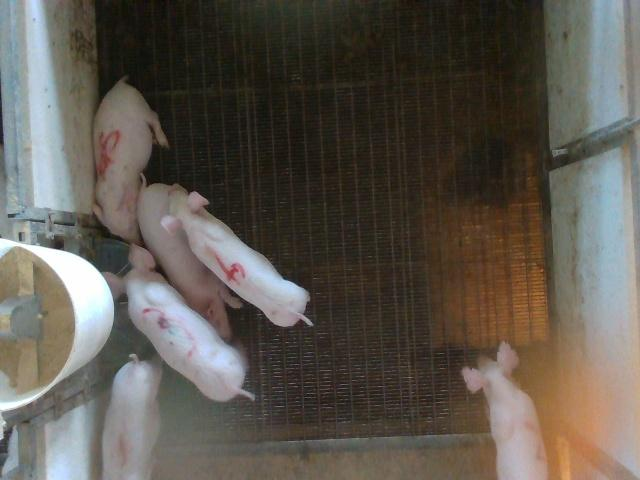pig-1: (102, 355, 161, 478)
pig-2: (461, 341, 548, 478)
pig-3: (102, 245, 255, 401)
pig-4: (162, 185, 312, 326)
pig-5: (92, 76, 169, 244)
